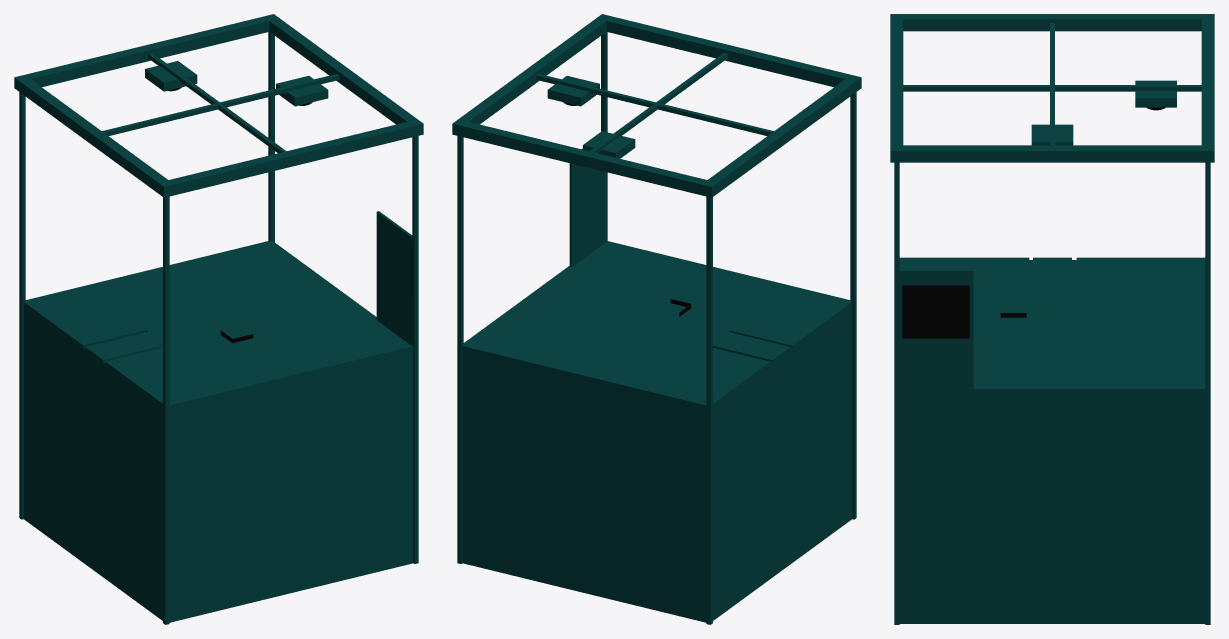
File: frame.dae
The picture shows the model from 3 angles, left to right: view 1: azimuth 30°, elevation 25°; view 2: azimuth 150°, elevation 25°; view 3: azimuth 270°, elevation 25°; orthographic projection. The views are drawn at different scales.
Parts seen in each view (by area): view 1: assemblycontainer; view 2: assemblycontainer; view 3: assemblycontainer.
Boxes of the visible parts, box(x1,y1,x2,y2) form: assemblycontainer: box(14, 14, 423, 624); assemblycontainer: box(452, 14, 861, 624); assemblycontainer: box(890, 14, 1214, 624).
Bounding box in the file's own units: 1.25 × 1.25 × 2.02.
